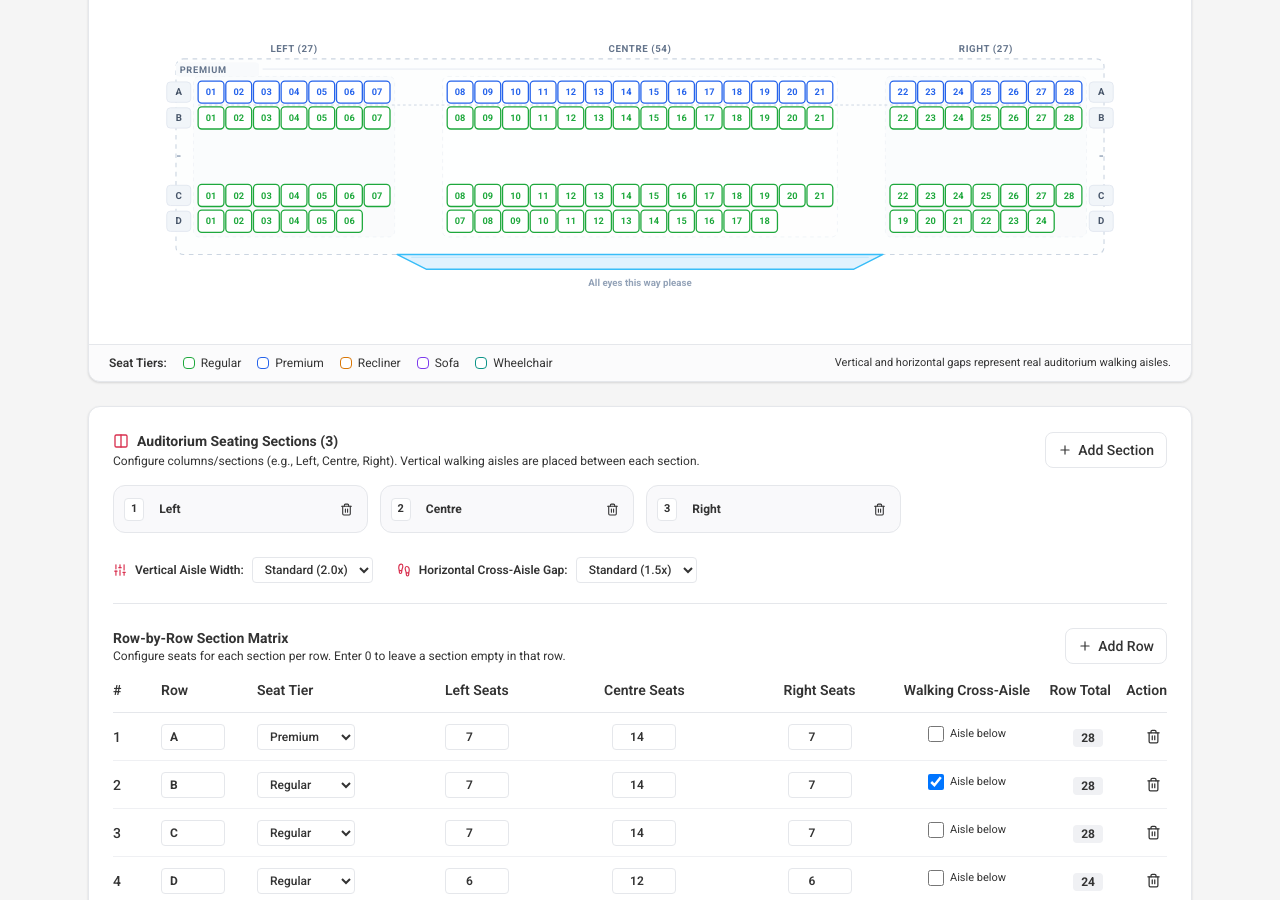
Test: SeatLayoutSetup Component › adds and removes sections in multi-section mode
(page scrolled)
Click the button "Add Section" at (1106, 450), box x1=1045 y1=432 x2=1167 y2=468
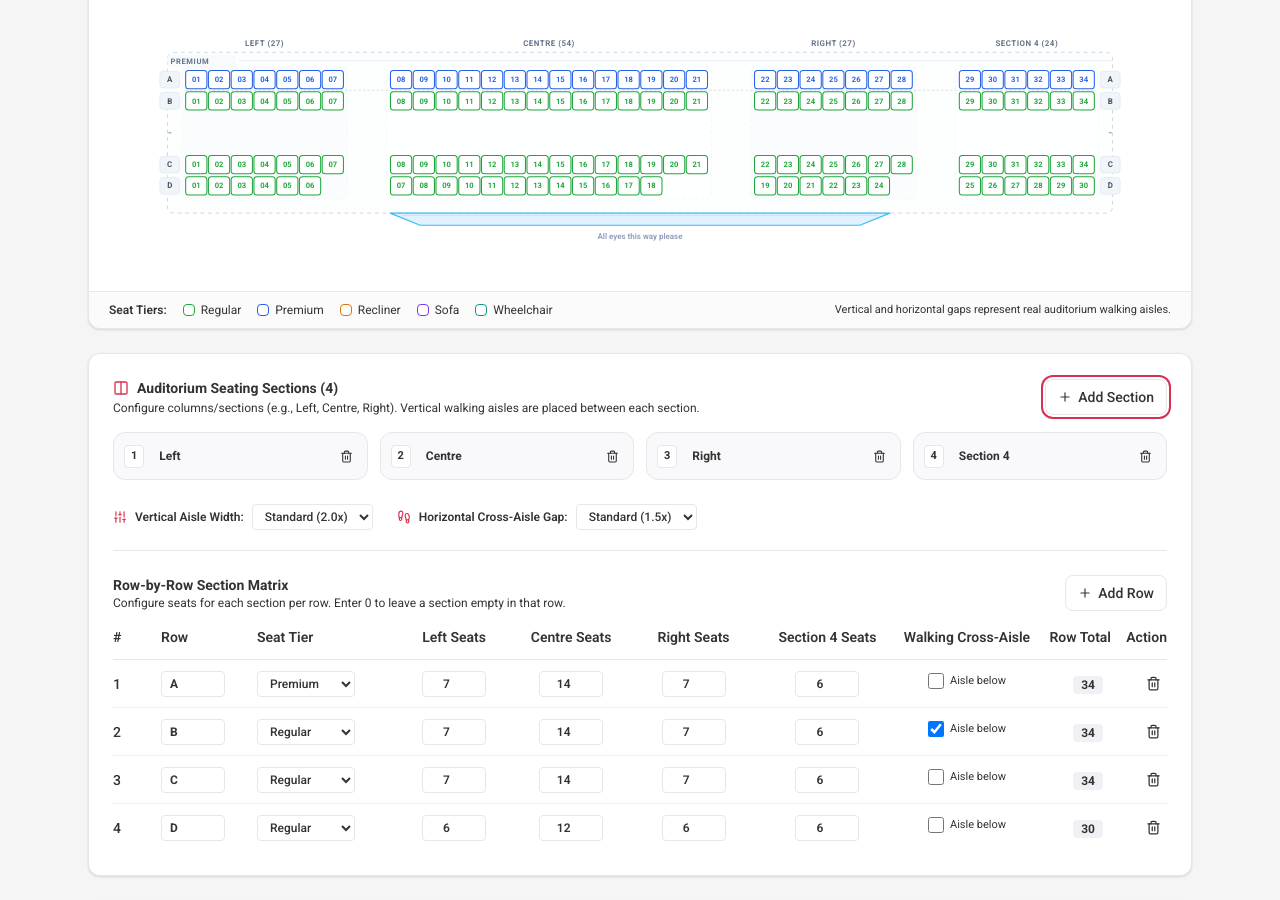
Expected: the heading "Auditorium Seating Sections (4)" is shown, x1=113 y1=380 x2=338 y2=396
Click the 4th button titled "Remove section" at (1146, 456), box x1=1135 y1=446 x2=1156 y2=467
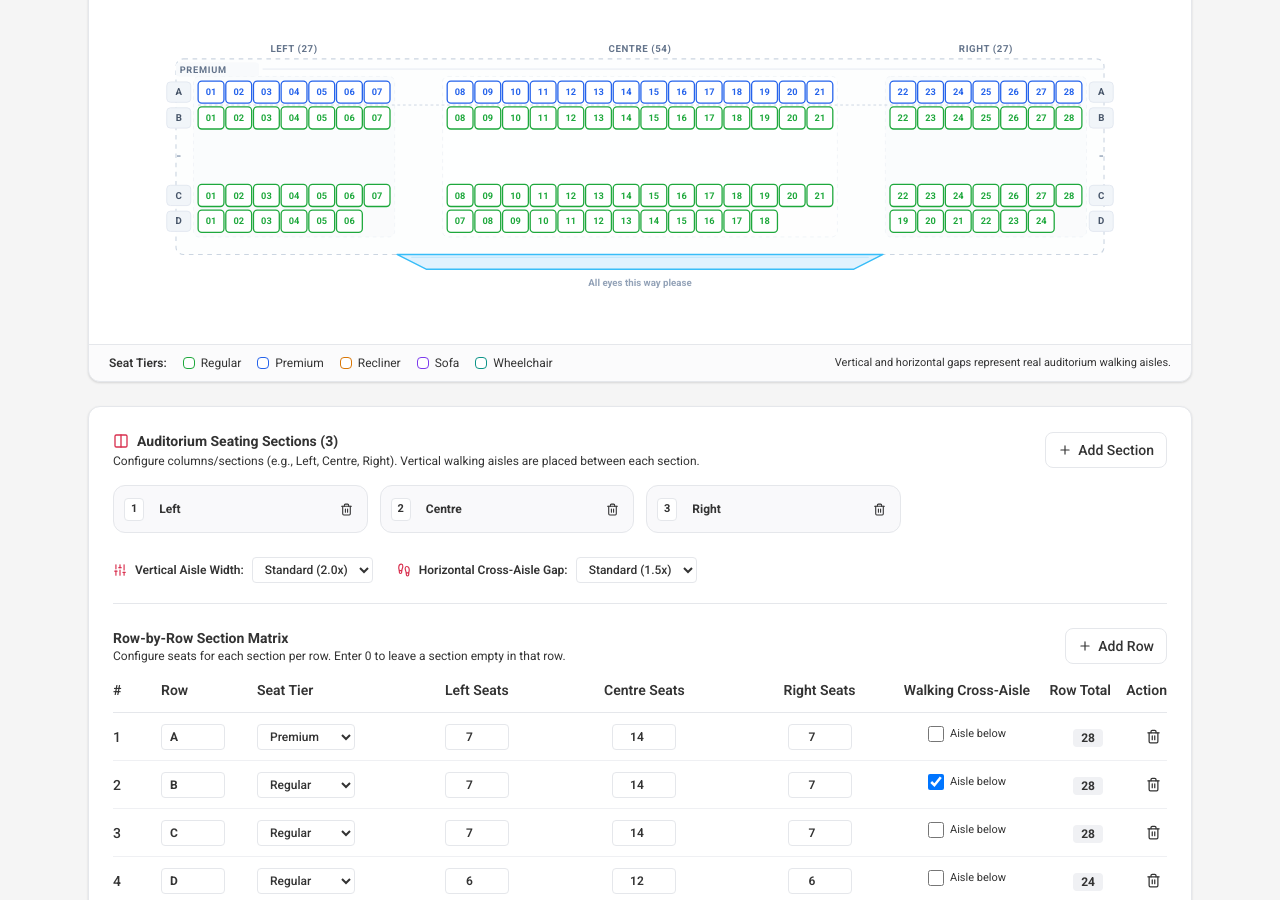
Expected: the heading "Auditorium Seating Sections (3)" is shown, x1=113 y1=433 x2=338 y2=449
